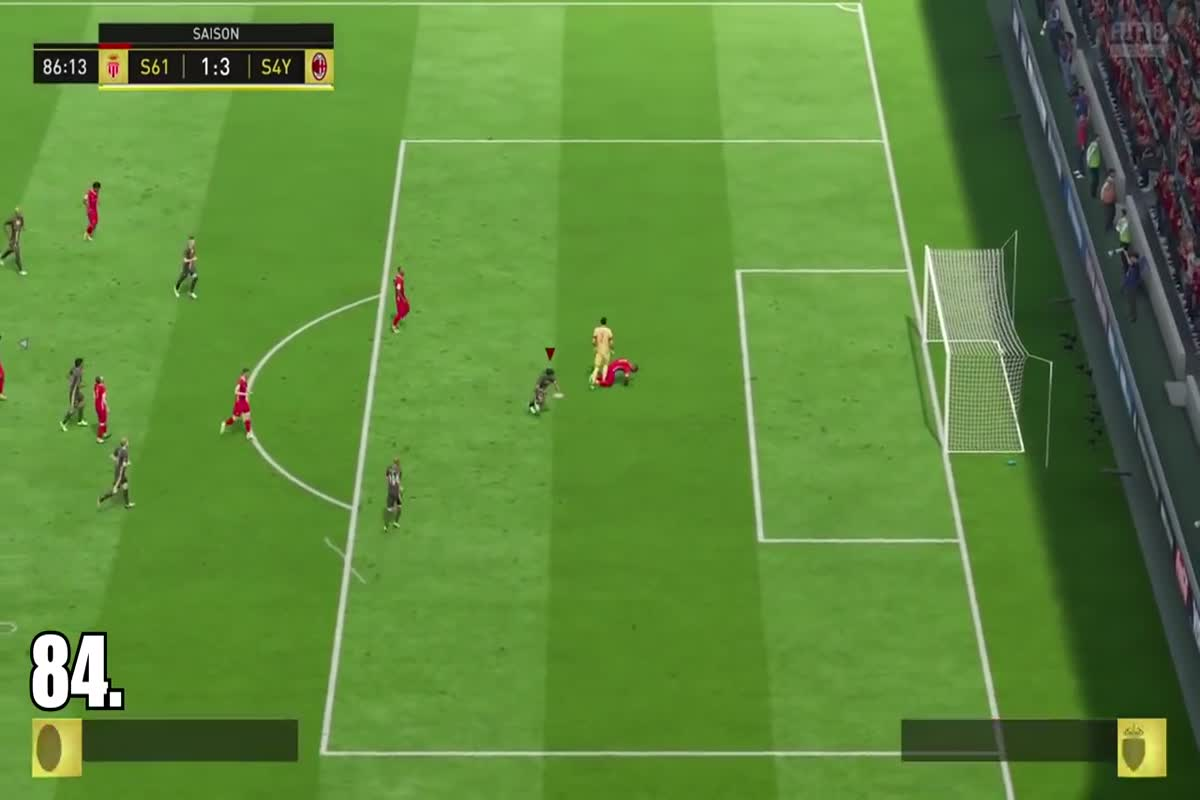ball: (992, 345, 1012, 362)
